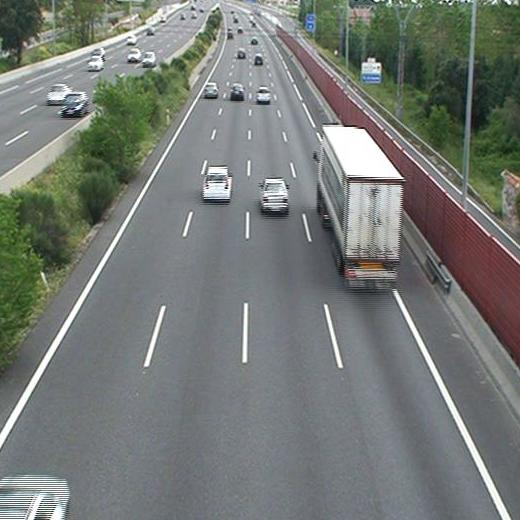car: (203, 168, 232, 198), (261, 180, 287, 210), (231, 84, 245, 99), (257, 88, 271, 102), (204, 83, 217, 98), (254, 55, 264, 64), (238, 49, 247, 58)
truck: (316, 125, 400, 286)
